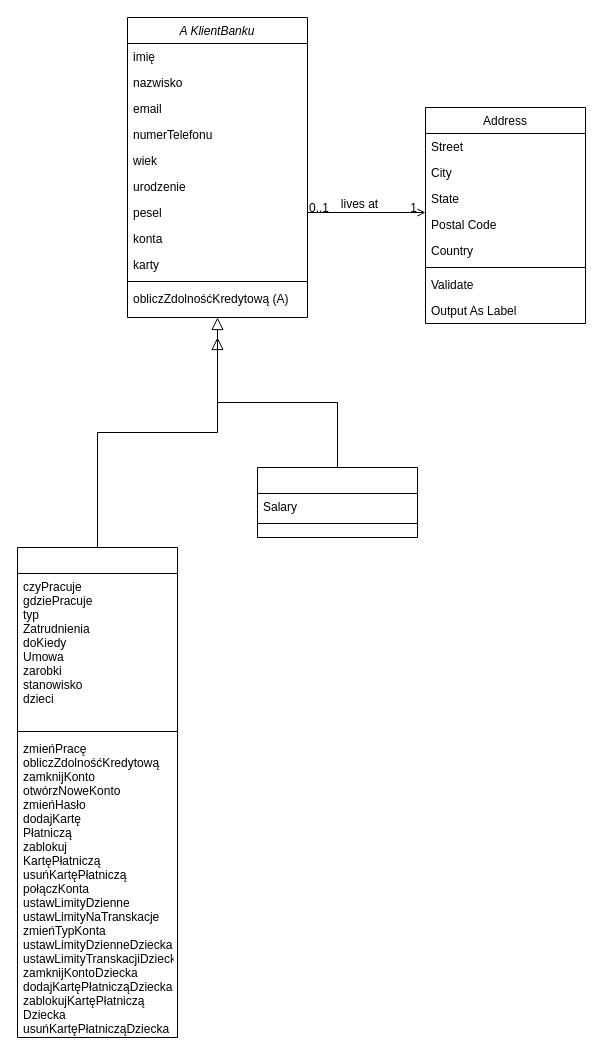
Image size: 603x1058. Some labels were removed from this diagram. The box of each missing label's shape, as (x1, y1, x2, y2) in pixels:
Dorosły: (16, 546, 178, 1038)
Dziecko: (256, 466, 418, 538)
